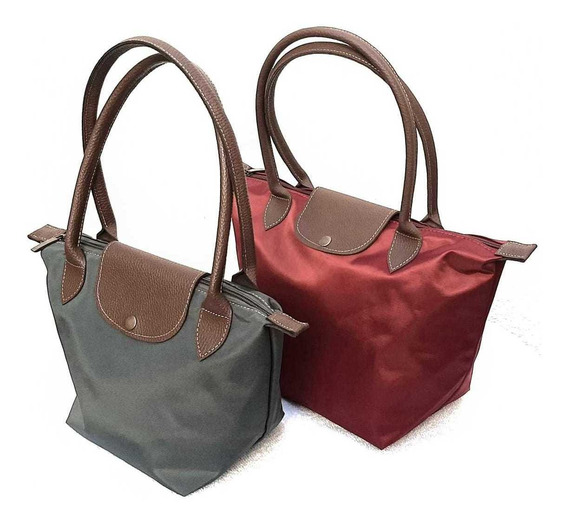cartera: (225, 15, 539, 454), (28, 28, 291, 499)
